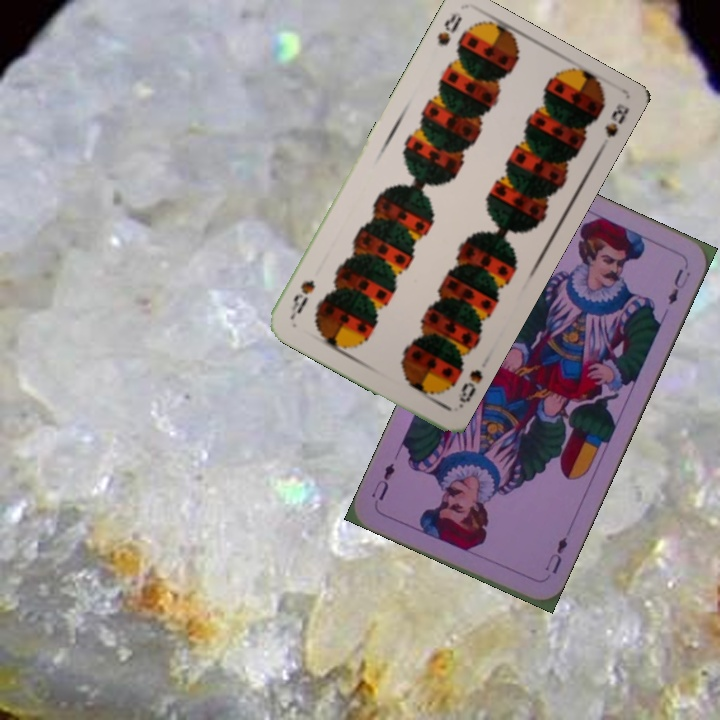EU: (541, 527, 573, 577)
S8: (454, 365, 485, 411), (433, 9, 465, 49)
